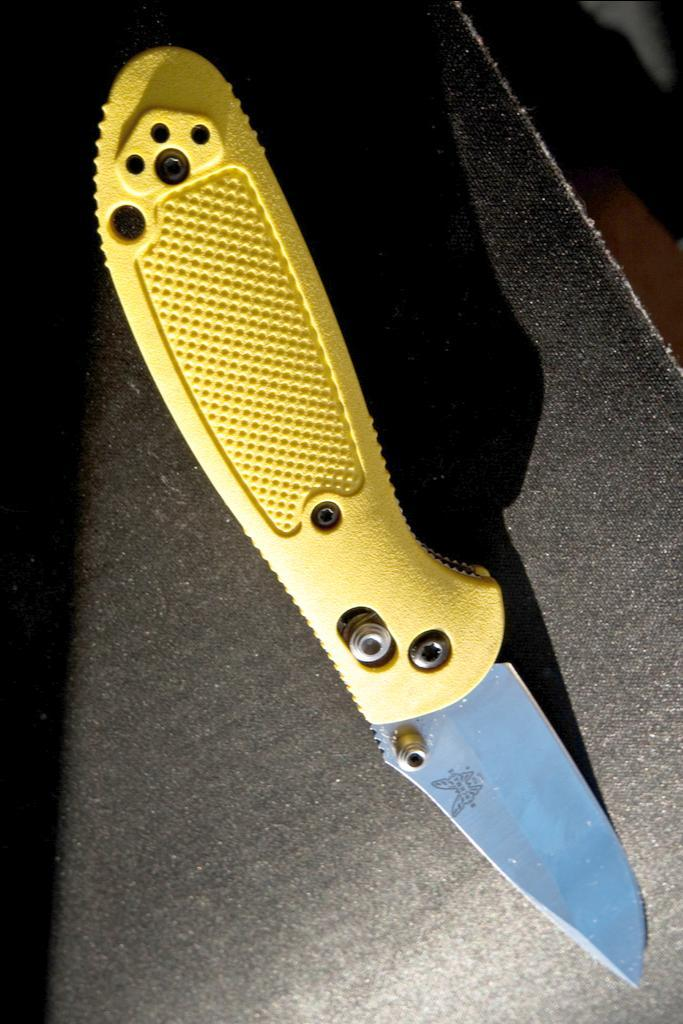melee: (93, 42, 645, 982)
